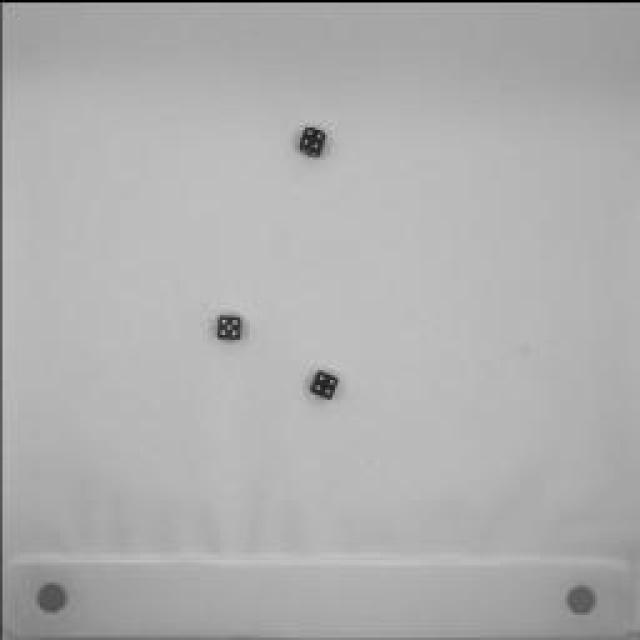dice_4: (305, 365, 345, 403), (294, 119, 331, 159)
dice_5: (209, 311, 249, 344)
